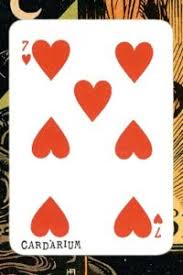seven of hearts: (8, 19, 172, 256)
